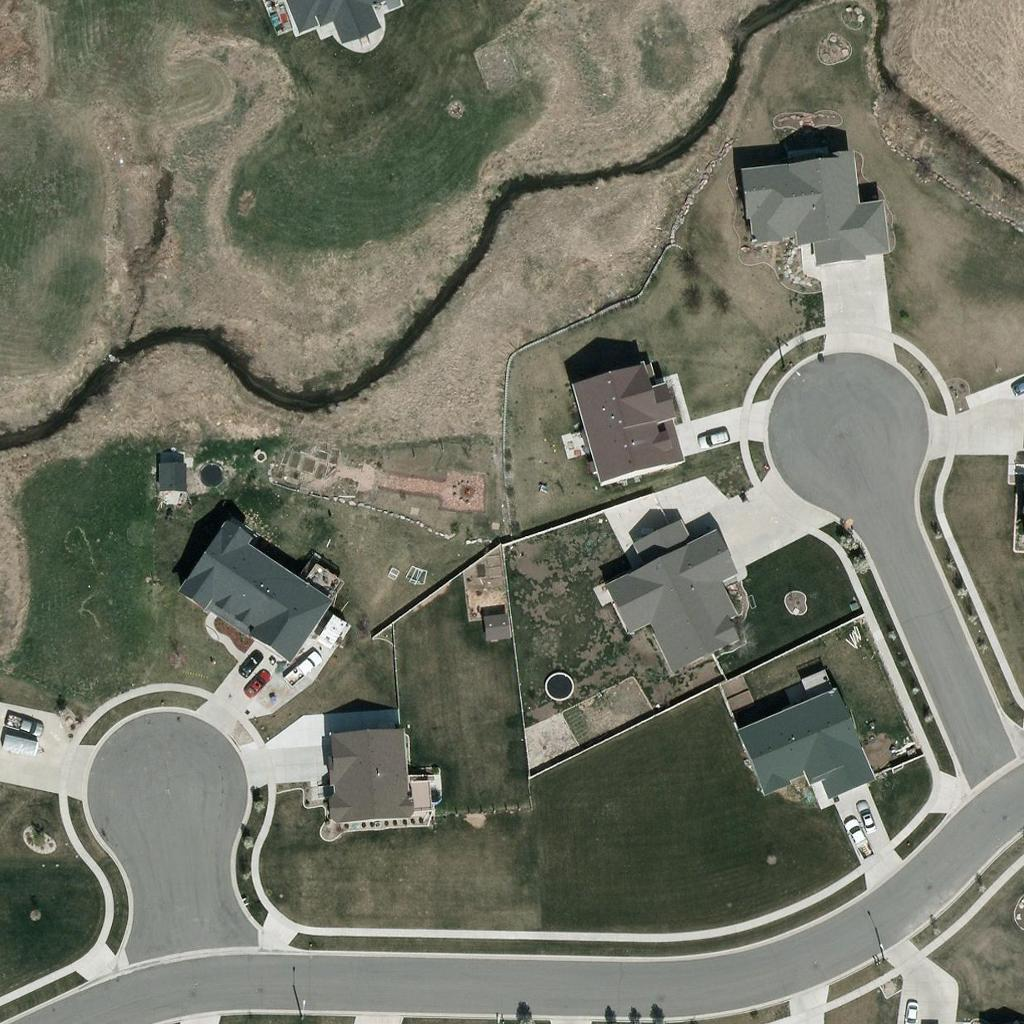car: (697, 421, 731, 455), (233, 647, 267, 681), (290, 647, 324, 681), (239, 666, 273, 700), (8, 708, 42, 742), (851, 800, 885, 834), (841, 819, 875, 853), (894, 996, 928, 1024)
